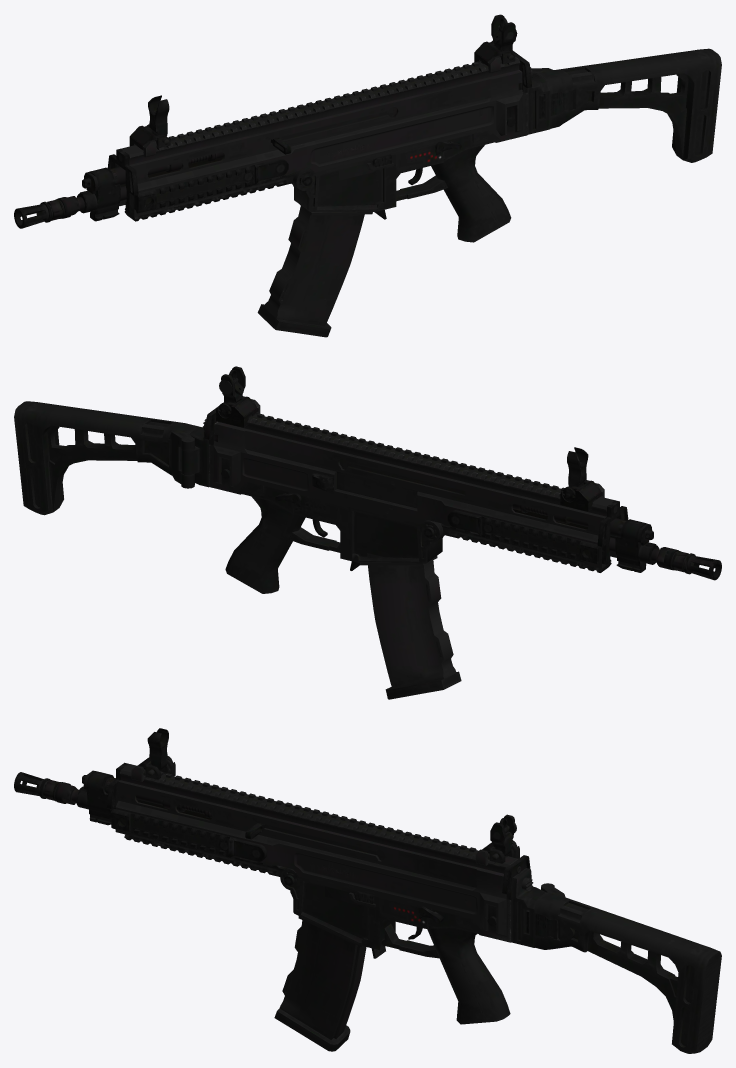
The model's file is weapon_czbren.glb.
The picture shows the model from 3 angles, top to bottom: view 1: azimuth 30°, elevation 25°; view 2: azimuth 150°, elevation 25°; view 3: azimuth 330°, elevation 25°; orthographic projection.
Parts seen in each view (by area): view 1: main_frame_czbren, stock_czbren, magazine_czbren, grip_czbren, barrel_czbren, rear_sight_czbren, front_sight_czbren; view 2: main_frame_czbren, stock_czbren, magazine_czbren, grip_czbren, barrel_czbren, rear_sight_czbren, front_sight_czbren; view 3: main_frame_czbren, stock_czbren, magazine_czbren, grip_czbren, barrel_czbren, rear_sight_czbren, front_sight_czbren.
Boxes of the visible parts, x1,y1,x2,y2 form: main_frame_czbren: (107,50,531,221); stock_czbren: (527,48,721,162); magazine_czbren: (257,164,374,337); grip_czbren: (396,145,511,242); barrel_czbren: (14,152,223,228); rear_sight_czbren: (474,14,517,72); front_sight_czbren: (129,95,170,157); main_frame_czbren: (204,406,628,572); stock_czbren: (14,401,208,515); magazine_czbren: (360,553,461,699); grip_czbren: (225,496,340,593); barrel_czbren: (512,503,721,580); rear_sight_czbren: (216,366,260,427); front_sight_czbren: (560,447,604,511); main_frame_czbren: (106,762,530,958); stock_czbren: (511,868,721,1053); magazine_czbren: (274,886,366,1051); grip_czbren: (381,924,510,1024); barrel_czbren: (14,770,211,825); rear_sight_czbren: (475,814,519,865); front_sight_czbren: (131,728,175,781).
Size of the model in its own units: 84.42 by 32.66 by 8.2.
1 material, 1 textured.
